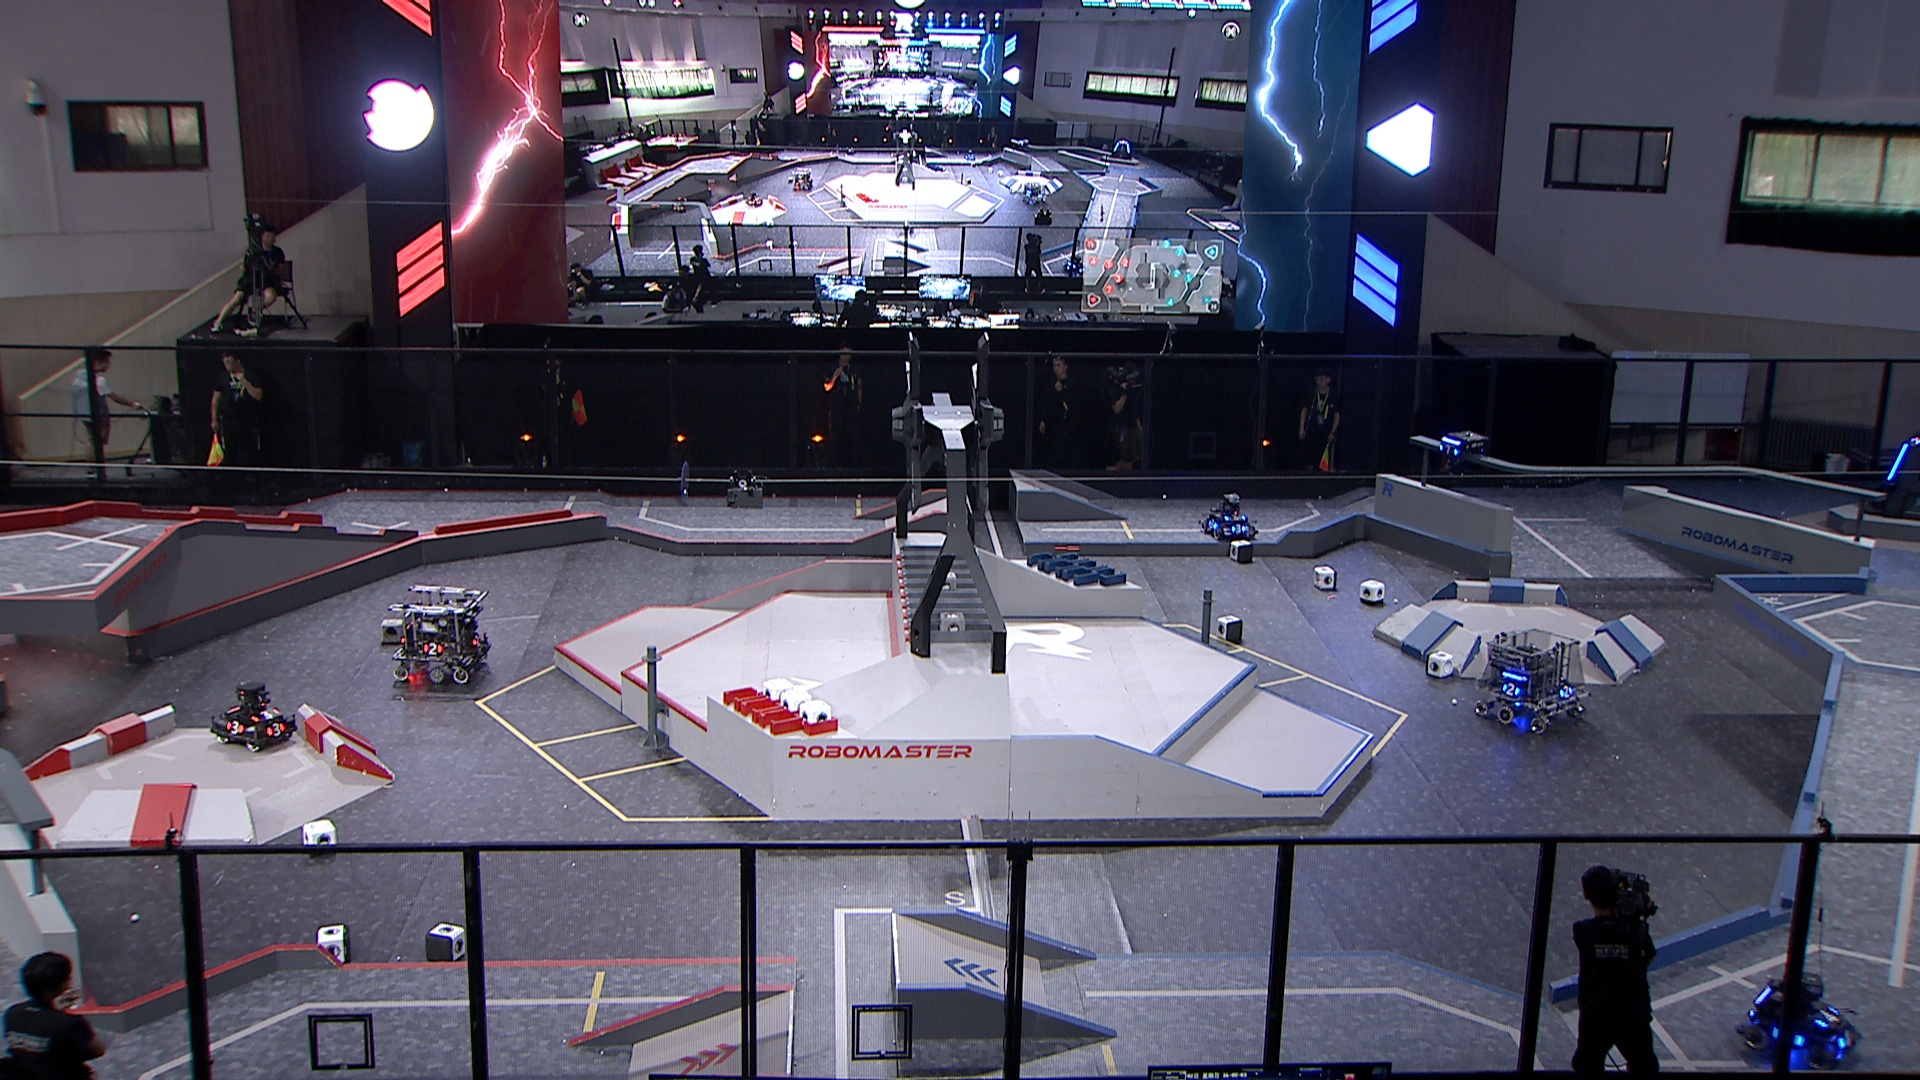armor: (1887, 442, 1909, 481), (1815, 1005, 1842, 1029), (249, 707, 281, 723), (1836, 1029, 1858, 1050), (224, 719, 248, 737), (423, 641, 444, 659), (1437, 442, 1460, 458), (1501, 683, 1522, 699), (266, 723, 286, 738), (1557, 684, 1576, 700), (1224, 513, 1250, 524), (1229, 524, 1249, 535), (471, 633, 485, 647), (1207, 518, 1220, 533)
base: (1861, 436, 1920, 526)
car: (1735, 968, 1865, 1072), (1474, 629, 1592, 738), (389, 583, 495, 687), (208, 680, 297, 752), (1196, 491, 1265, 543)
ignore: (790, 164, 816, 191), (1021, 181, 1048, 206), (1063, 253, 1087, 276), (1109, 140, 1134, 161), (745, 190, 766, 207), (671, 196, 690, 214), (963, 148, 978, 162), (1019, 138, 1031, 152)
watcher: (1437, 427, 1487, 476)
